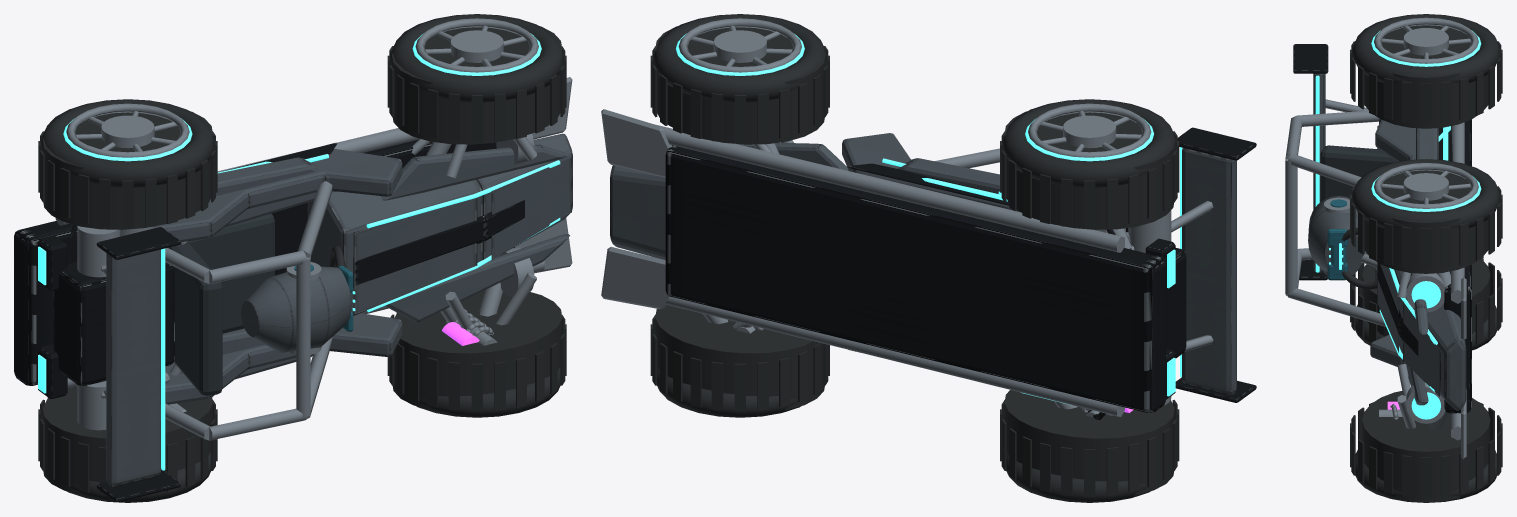
The model's file is kart-high.glb.
3 renders of one model, left to right at view 1: azimuth 30°, elevation 25°; view 2: azimuth 150°, elevation 25°; view 3: azimuth 270°, elevation 25°, orthographic. The views are drawn at different scales.
Parts seen in each view (by area): view 1: kart-root / Brushed pale alloy, kart-root / Ceramic graphite, kart-root / Titanium edges, Wheel 0 -1 / Tire rubber, Wheel 0 1 / Tire rubber, Wheel 1 1 / Tire rubber, kart-root / Cockpit upholstery, Wheel 1 -1 / Tire rubber, Wheel 0 1 / Titanium edges, Wheel 1 1 / Titanium edges, kart-root / Cyan instrumentation, Wheel 0 1 / Cyan instrumentation (+1 smaller); view 2: kart-root / Ceramic graphite, kart-root / Titanium edges, kart-root / Brushed pale alloy, Wheel 1 1 / Tire rubber, Wheel 0 1 / Tire rubber, Wheel 1 -1 / Tire rubber, Wheel 0 -1 / Tire rubber, Wheel 1 1 / Titanium edges, Wheel 0 1 / Titanium edges, kart-root / Cyan instrumentation; view 3: kart-root / Brushed pale alloy, Wheel 0 -1 / Tire rubber, Wheel 1 1 / Tire rubber, Wheel 0 1 / Tire rubber, kart-root / Titanium edges, kart-root / Ceramic graphite, Wheel 1 -1 / Tire rubber, Wheel 1 1 / Titanium edges, Wheel 0 1 / Titanium edges, kart-root / Cyan instrumentation, kart-root / Cockpit upholstery, kart-root / Cyan glazing (+3 smaller).
Part boxes in pixels (x1,y1,x2,y2): kart-root / Brushed pale alloy: (106,133,572,486); kart-root / Ceramic graphite: (14,139,524,502); kart-root / Titanium edges: (55,77,572,440); Wheel 0 -1 / Tire rubber: (387,290,566,417); Wheel 0 1 / Tire rubber: (387,14,566,144); Wheel 1 1 / Tire rubber: (38,99,217,229); kart-root / Cockpit upholstery: (168,213,274,395); Wheel 1 -1 / Tire rubber: (38,386,217,502); Wheel 0 1 / Titanium edges: (415,18,538,72); Wheel 1 1 / Titanium edges: (66,103,189,157); kart-root / Cyan instrumentation: (38,154,560,470); Wheel 0 1 / Cyan instrumentation: (412,33,541,75); kart-root / Ceramic graphite: (665,127,1256,419); kart-root / Titanium edges: (601,109,1213,417); kart-root / Brushed pale alloy: (610,133,1236,394); Wheel 1 1 / Tire rubber: (1000,99,1179,229); Wheel 0 1 / Tire rubber: (650,14,829,144); Wheel 1 -1 / Tire rubber: (1000,390,1179,502); Wheel 0 -1 / Tire rubber: (650,304,829,417); Wheel 1 1 / Titanium edges: (1028,103,1151,157); Wheel 0 1 / Titanium edges: (678,18,801,72); kart-root / Cyan instrumentation: (882,147,1182,405); kart-root / Brushed pale alloy: (1308,73,1466,410); Wheel 0 -1 / Tire rubber: (1350,391,1502,502); Wheel 1 1 / Tire rubber: (1350,14,1502,128); Wheel 0 1 / Tire rubber: (1350,159,1502,273); kart-root / Titanium edges: (1285,99,1466,459); kart-root / Ceramic graphite: (1293,44,1471,413); Wheel 1 -1 / Tire rubber: (1350,258,1502,350); Wheel 1 1 / Titanium edges: (1374,17,1478,63); Wheel 0 1 / Titanium edges: (1374,163,1478,208); kart-root / Cyan instrumentation: (1315,75,1450,419); kart-root / Cockpit upholstery: (1320,145,1397,201); kart-root / Cyan glazing: (1327,199,1347,280).
Size of the model in its own units: 1.52 by 0.9102 by 0.6035.
8 materials, 2 textured.
